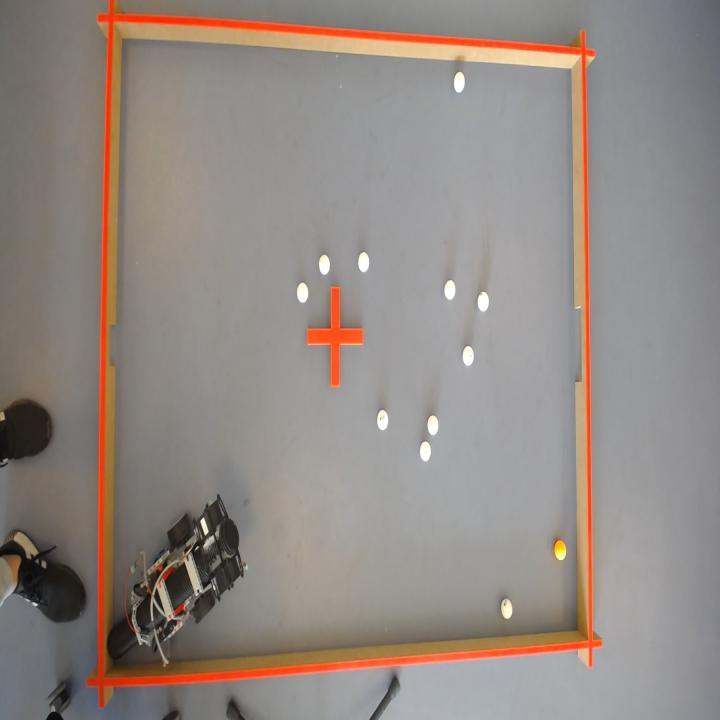orange: (554, 543, 566, 564)
robot: (106, 495, 243, 665)
white: (454, 69, 465, 91), (502, 598, 513, 620), (319, 253, 330, 274), (297, 281, 308, 302), (377, 409, 388, 430), (428, 414, 439, 435), (358, 251, 369, 271), (463, 345, 474, 365), (420, 441, 431, 461), (445, 279, 456, 298), (478, 291, 489, 310)
